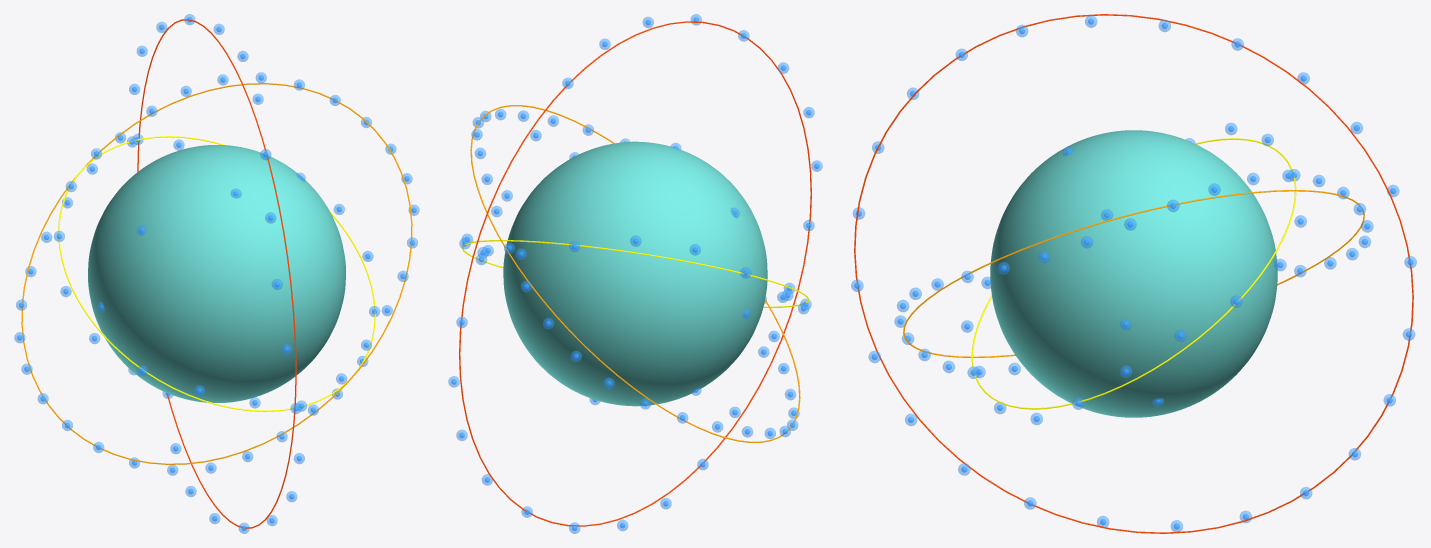
The picture shows the model from 3 angles, left to right: view 1: azimuth 30°, elevation 25°; view 2: azimuth 150°, elevation 25°; view 3: azimuth 270°, elevation 25°; orthographic projection. The views are drawn at different scales.
Parts seen in each view (by area): view 1: Po, object 61, object 126, object 24; view 2: Po, object 126, object 61, object 24; view 3: Po, object 126, object 61, object 24.
Boxes of the visible parts, bbox=[...] form: Po: bbox=[88, 145, 345, 402]; object 61: bbox=[21, 83, 412, 464]; object 126: bbox=[137, 19, 296, 528]; object 24: bbox=[58, 136, 375, 411]; Po: bbox=[503, 141, 767, 406]; object 126: bbox=[459, 21, 811, 526]; object 61: bbox=[470, 105, 800, 442]; object 24: bbox=[462, 240, 808, 307]; Po: bbox=[990, 130, 1277, 417]; object 126: bbox=[854, 14, 1413, 533]; object 61: bbox=[903, 190, 1364, 357]; object 24: bbox=[971, 138, 1296, 409].
Size of the model in its own units: 5.11 by 7.31 by 7.14.
